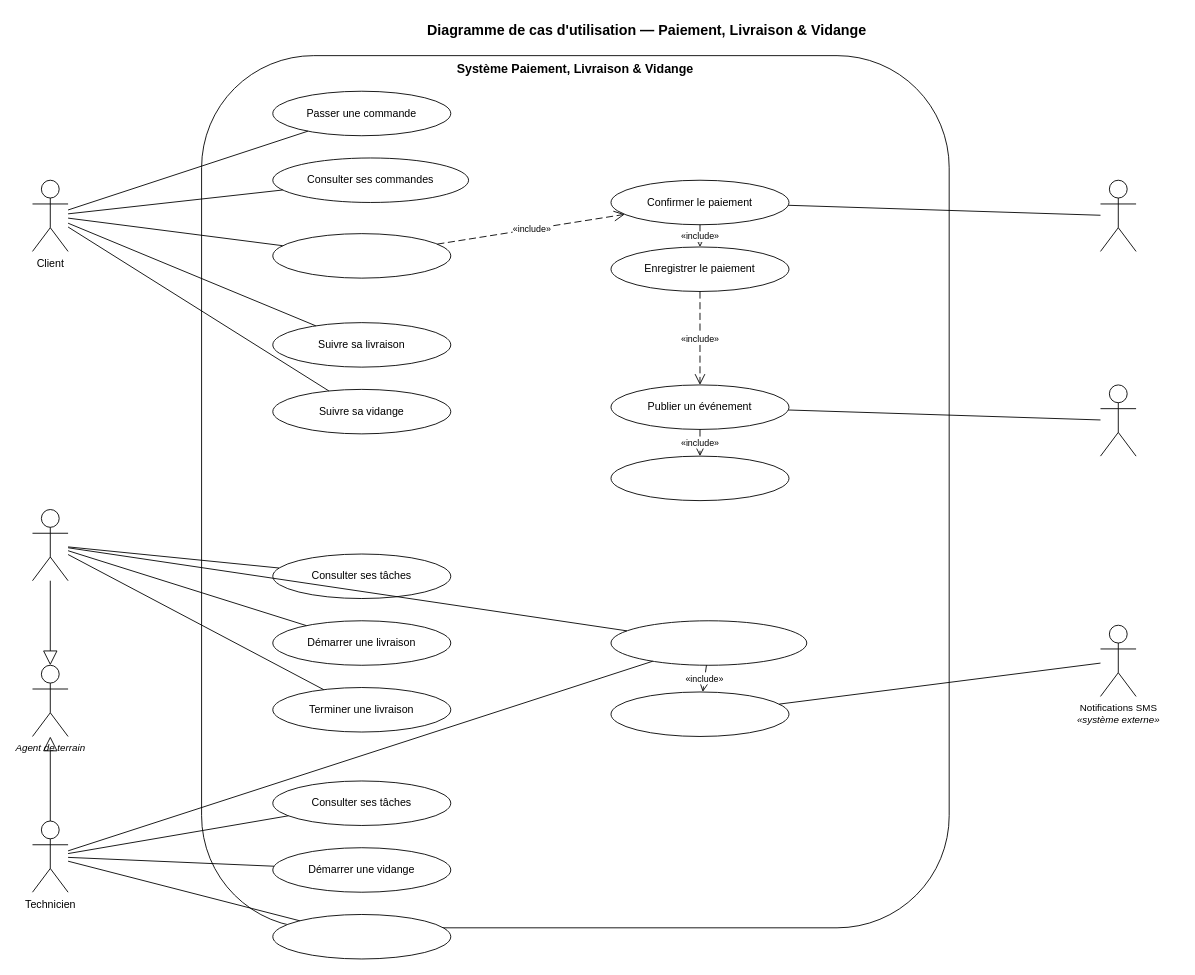
Image size: 1195x975. Some labels were removed from this diagram. The centre of each missing label's shape, as x and y in pixels:
"Alerter le client" goes at pixel 699 713.
"Assigner une tâche" goes at pixel 699 478.
"Livreur" goes at pixel 50 545.
"Messagerie «système externe»" goes at pixel 1118 420.
"Mettre à jour la position" goes at pixel 708 642.
"Passerelle de paiement «système externe»" goes at pixel 1118 215.
"Payer une commande" goes at pixel 361 255.
"Terminer une vidange" goes at pixel 361 936.
